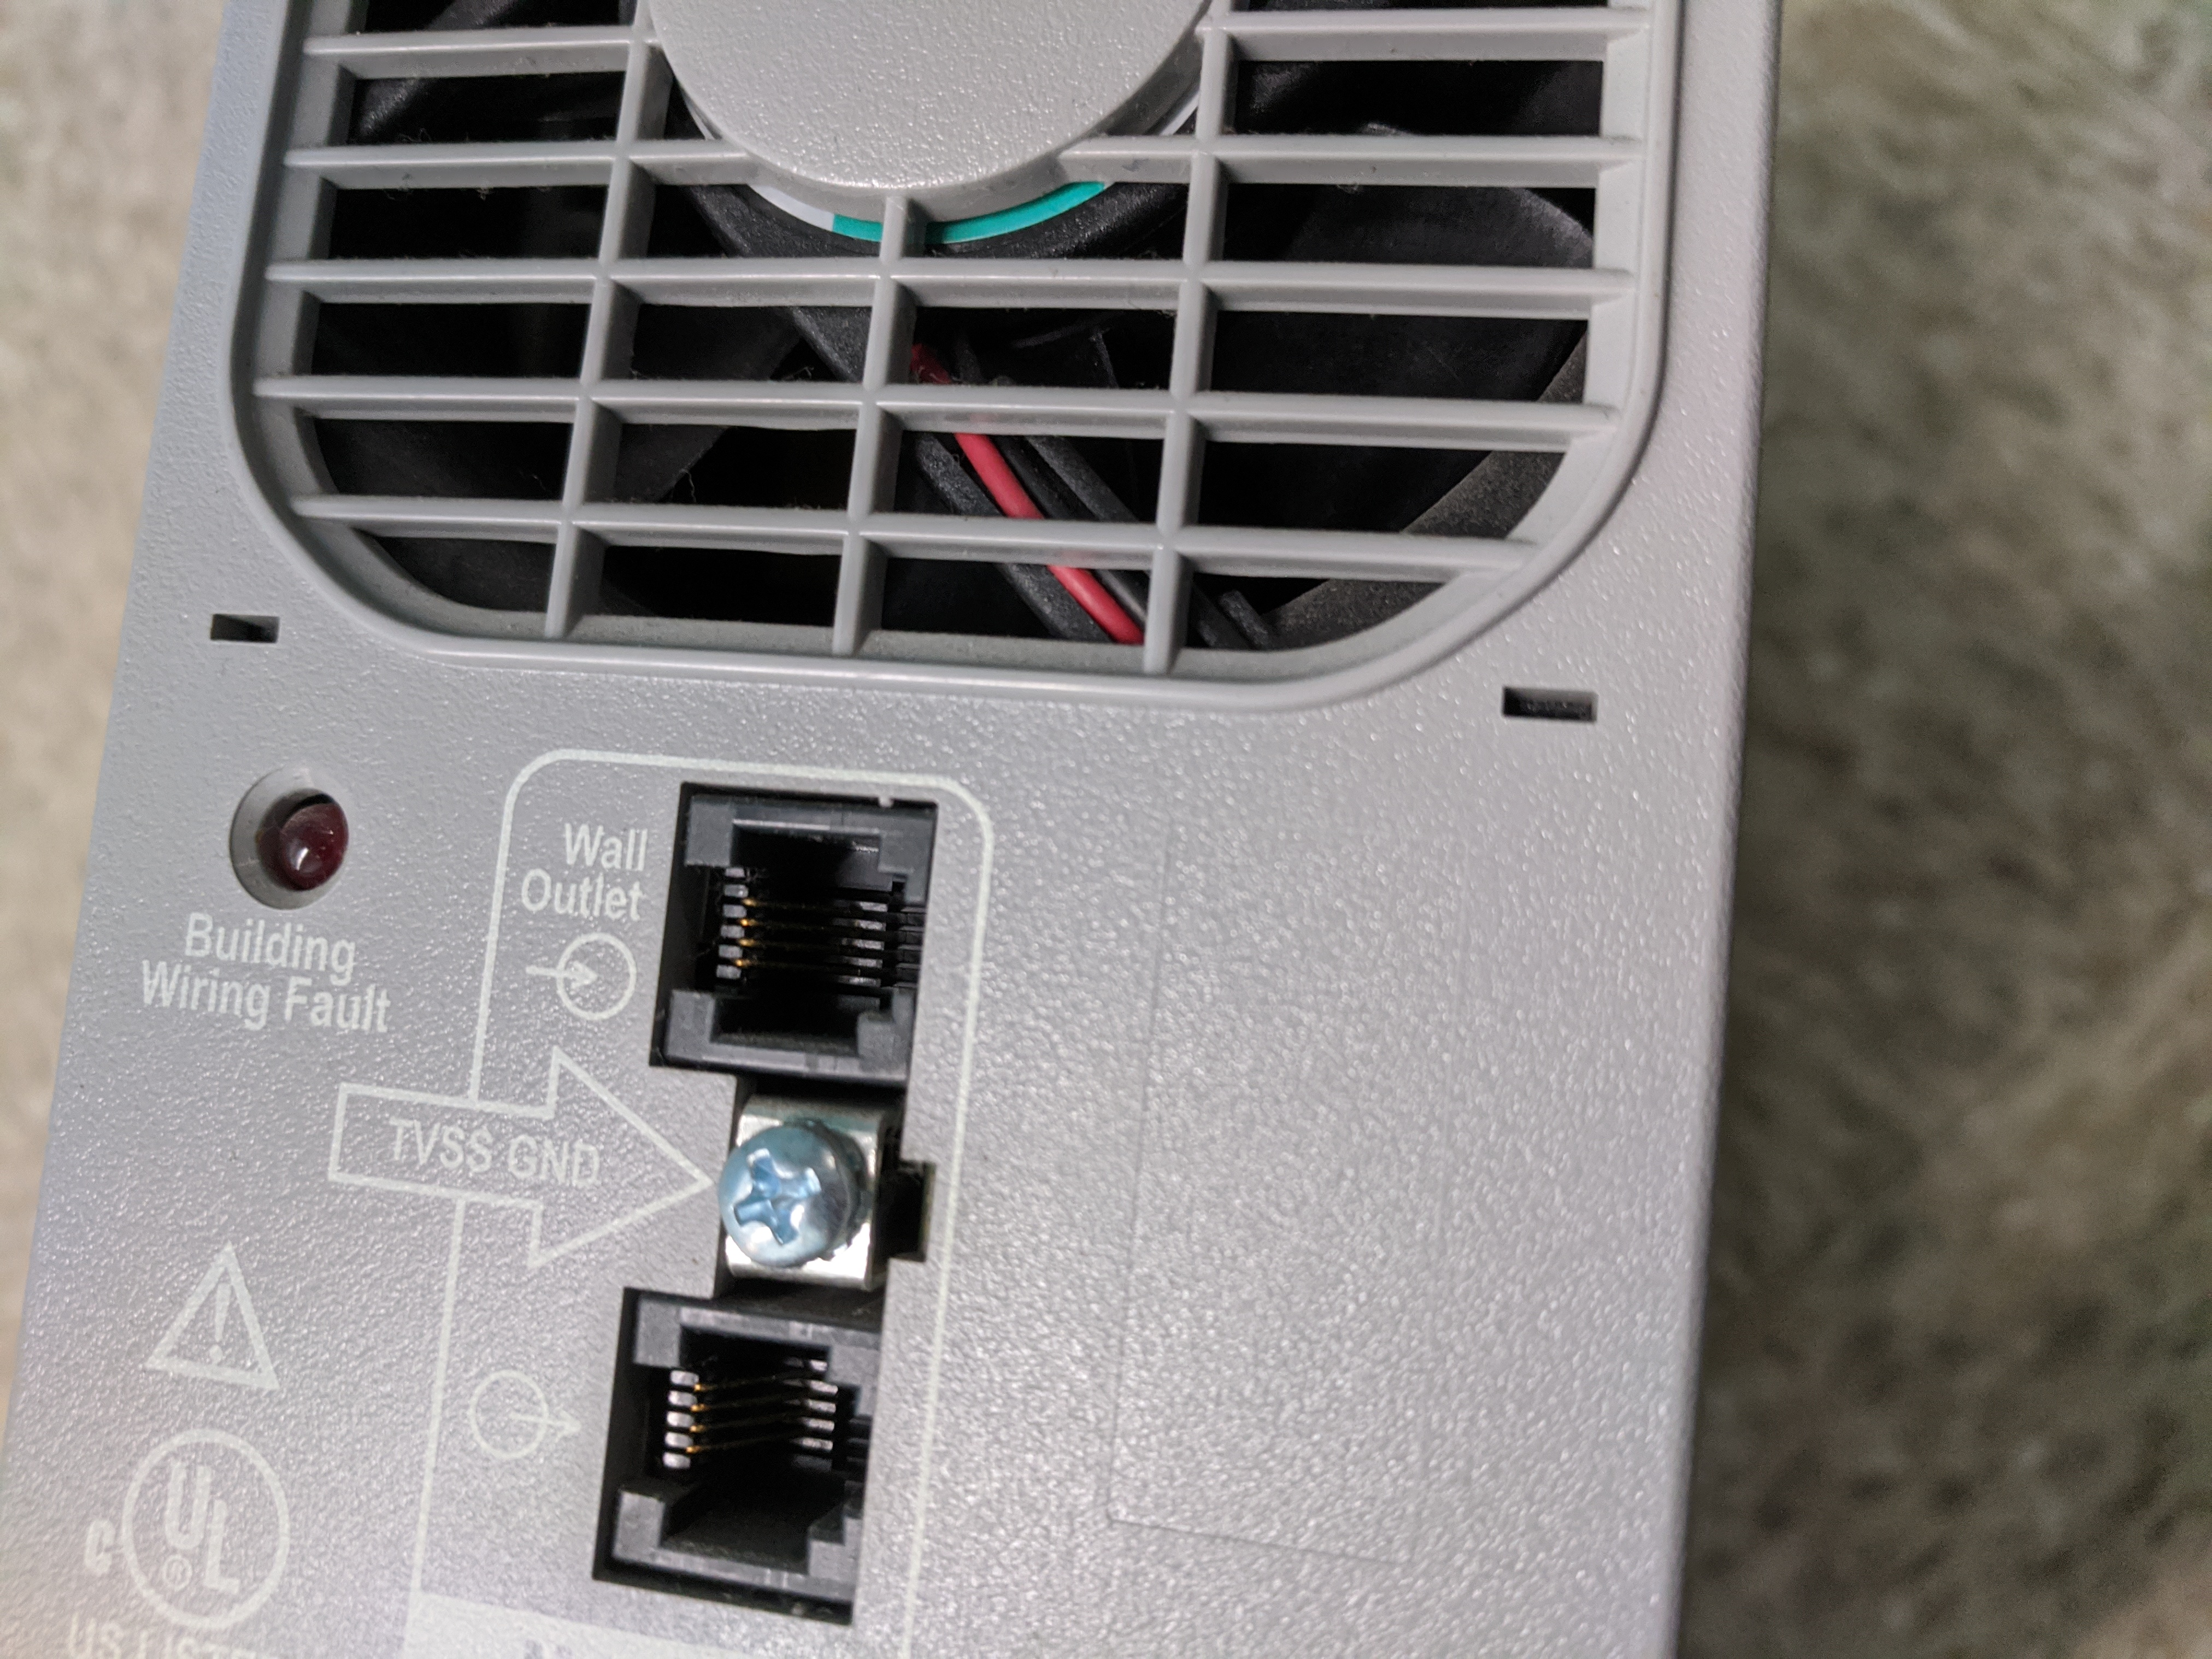cross_recessed_screw: (695, 1107, 859, 1270)
